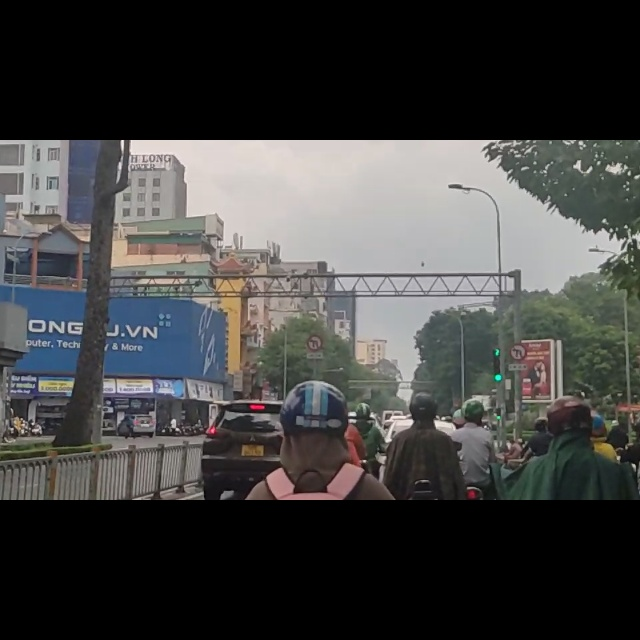bien_cam: (306, 345, 325, 377), (509, 363, 528, 392)
